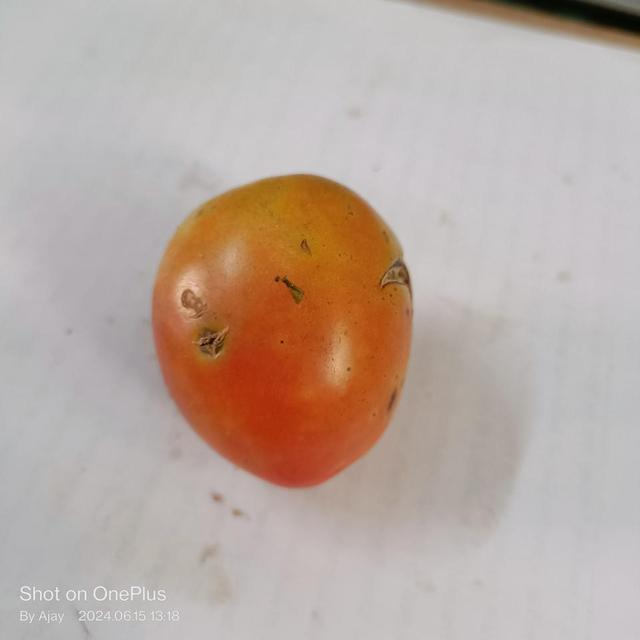Bacterial Spot Fruit: (22, 20, 265, 227)
